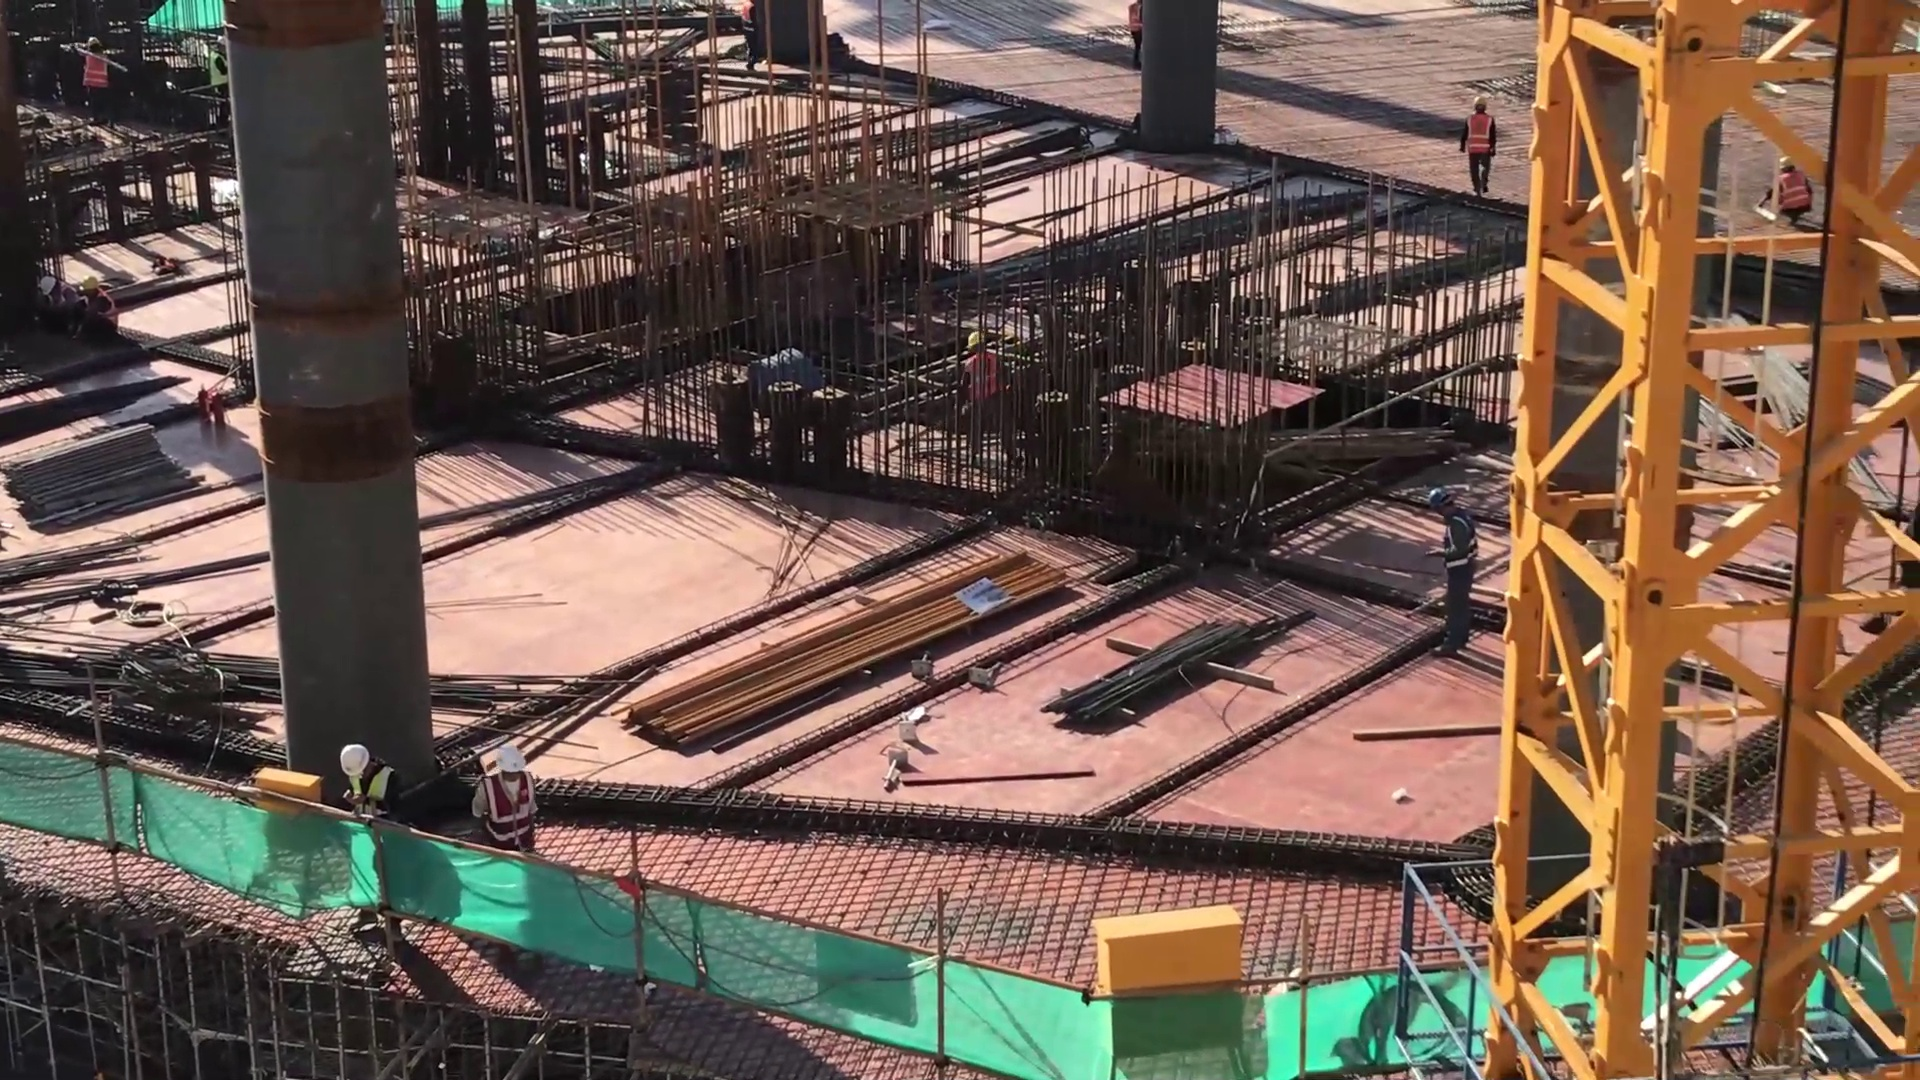helmet: (338, 737, 373, 772), (493, 746, 540, 769)
person: (340, 742, 396, 946), (475, 746, 544, 854), (1762, 139, 1820, 234), (1451, 89, 1493, 183), (70, 38, 106, 108)
vest: (458, 762, 543, 851), (82, 56, 139, 100), (1779, 164, 1815, 216), (966, 347, 1001, 392), (1466, 108, 1498, 147)
